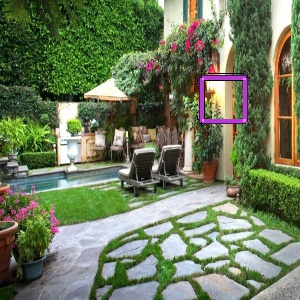square: (197, 72, 250, 125)
